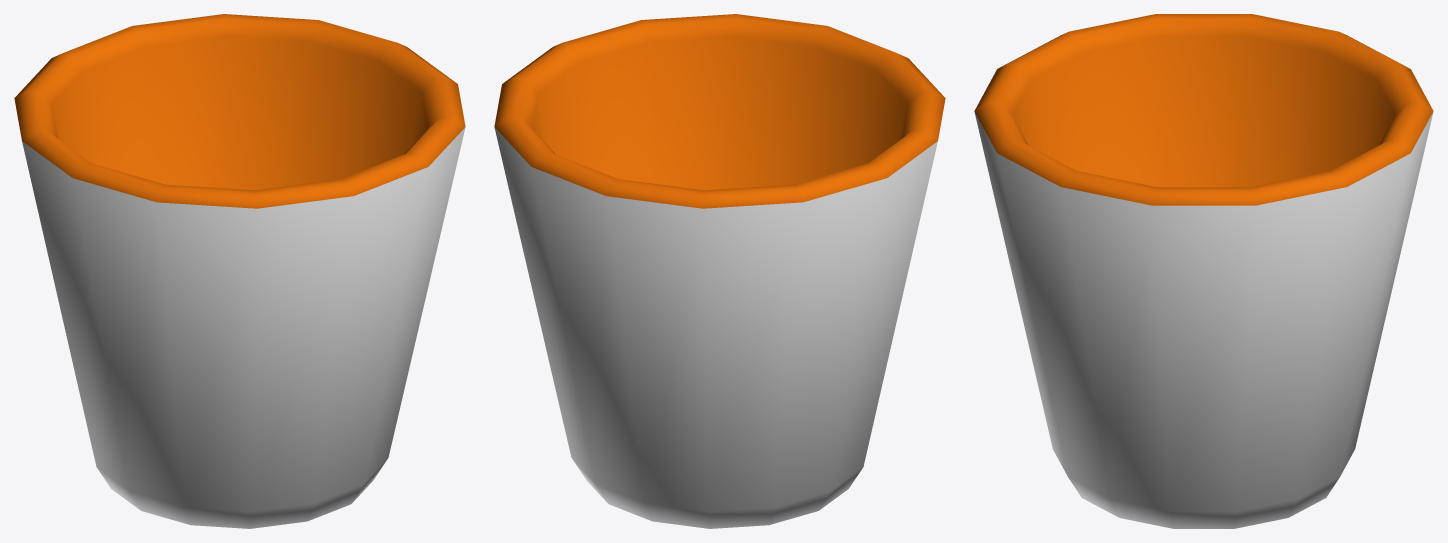
Rendered from Orange_cup.fbx.
The picture shows the model from 3 angles, left to right: view 1: azimuth 30°, elevation 25°; view 2: azimuth 150°, elevation 25°; view 3: azimuth 270°, elevation 25°; orthographic projection.
Parts seen in each view (by area): view 1: Orange_cup; view 2: Orange_cup; view 3: Orange_cup.
Boxes of the visible parts, x1,y1,x2,y2 form: Orange_cup: (14,14,465,528); Orange_cup: (494,14,945,528); Orange_cup: (974,14,1433,528).
Bounding box in the file's own units: 0.0274 × 0.0249 × 0.0281.
Materials: 1 (1 with a texture image).
